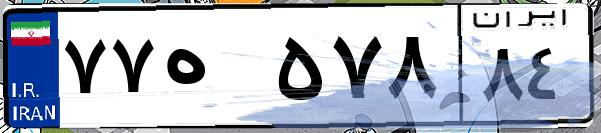4: (525, 38, 570, 115)
5: (270, 28, 330, 110)
7: (330, 28, 385, 110), (57, 26, 110, 100), (110, 28, 158, 98)
8: (385, 28, 445, 110), (475, 38, 525, 113)
ه: (158, 20, 270, 120)
